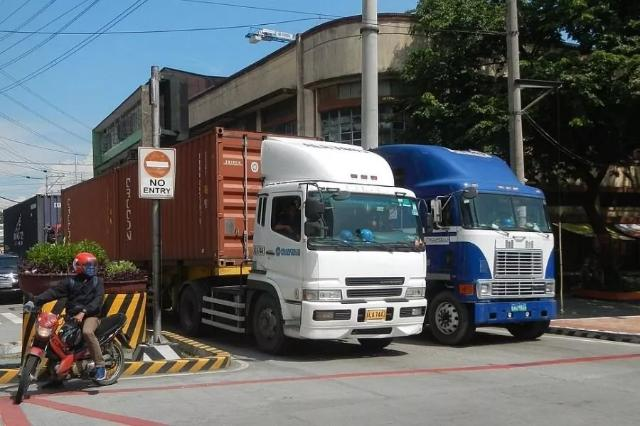motorcycle: (9, 252, 128, 406)
truck: (65, 152, 428, 356), (428, 147, 565, 343)
